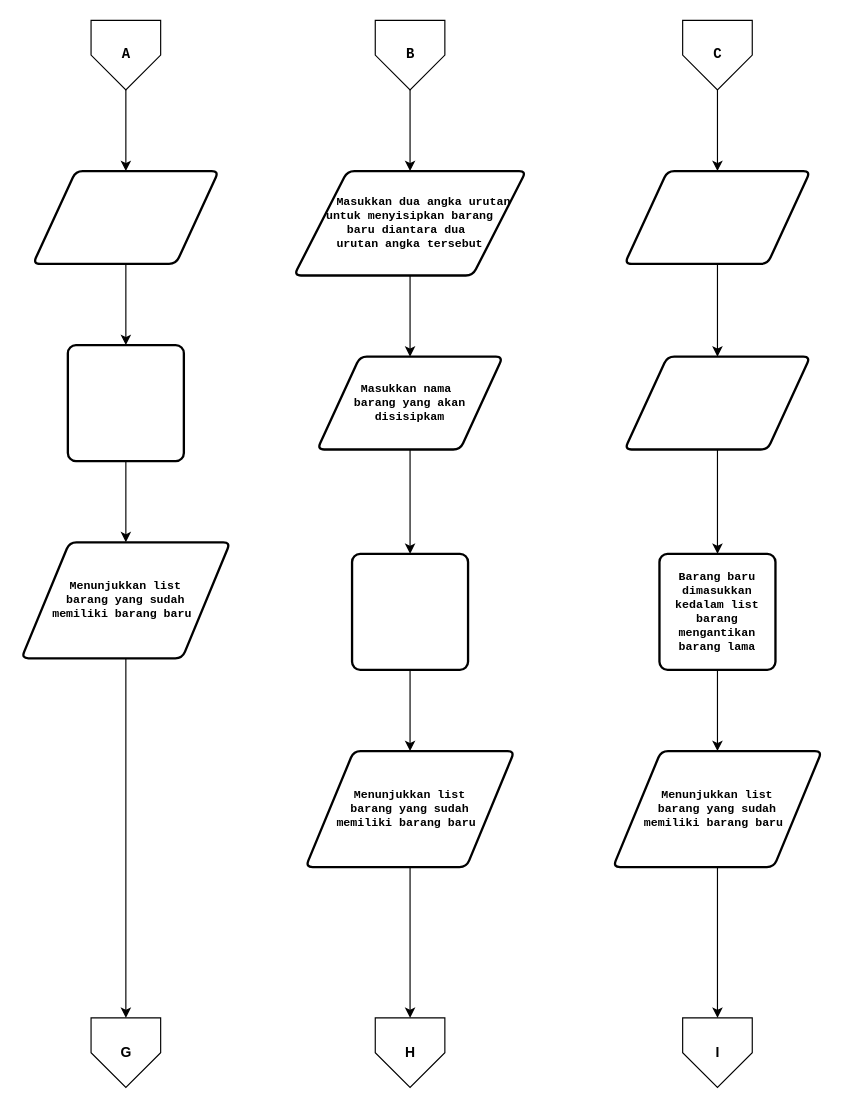
This 842x1108 diagram has some shape labels left out. Each missing label, with the centre of its shape:
"Barang baru disisipkan kedalam list barang" goes at point (409, 611).
"Barang ditambahkan kedalam list barang" goes at point (125, 402).
"Masukkan nama barang yang akan ditambahkan" goes at point (125, 216).
"Masukkan nama barang yang akan menggantikan" goes at point (717, 402).
"Masukkan nomor urutan barang yang akan diganti" goes at point (717, 216).
